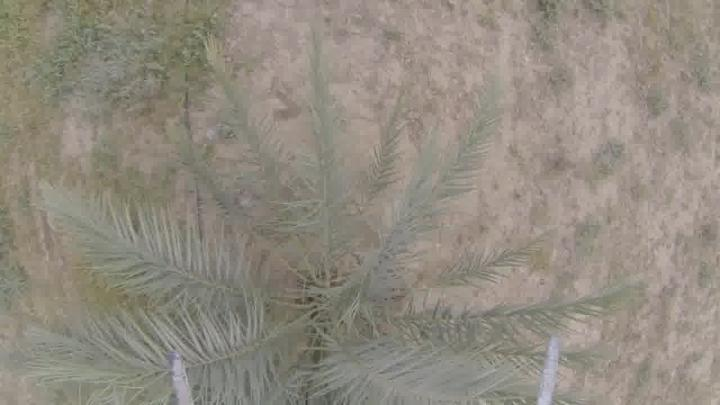Date-Palm-Crown: (195, 205, 479, 405)
